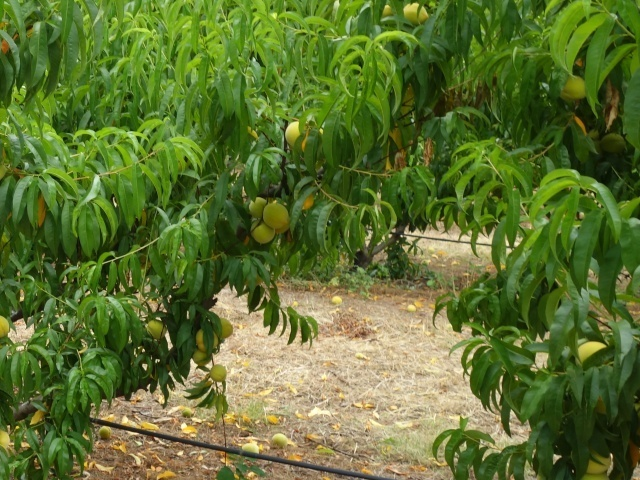peach: (557, 70, 592, 106), (579, 448, 614, 476), (250, 217, 278, 250), (578, 336, 610, 364), (262, 201, 290, 231), (284, 117, 307, 150), (399, 2, 430, 26), (247, 192, 273, 219), (142, 316, 169, 342), (192, 328, 215, 355), (214, 316, 237, 341), (208, 361, 228, 387), (190, 346, 208, 374)
